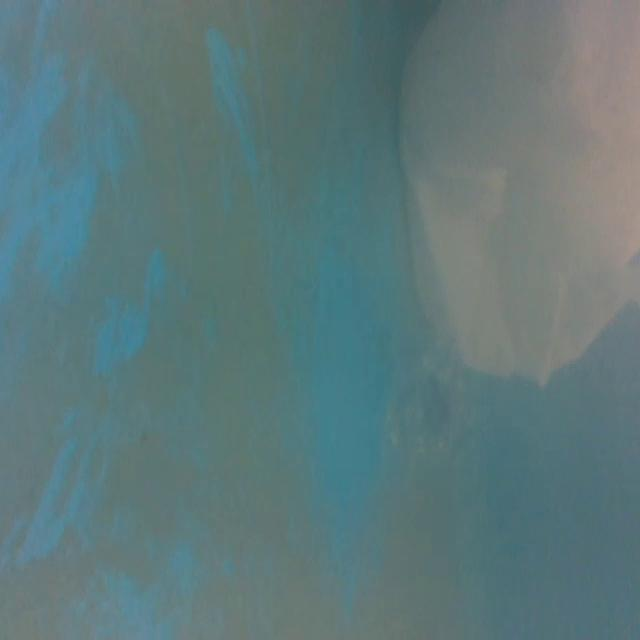plastic bags: (380, 0, 640, 394)
